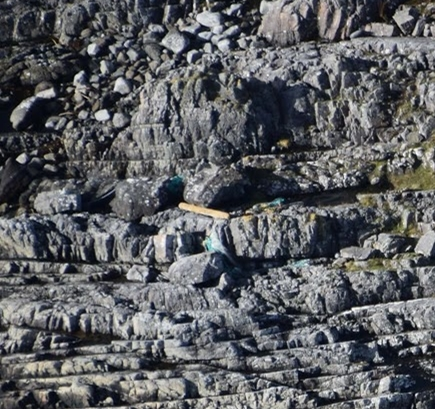net: (202, 229, 239, 268)
straight_bar: (177, 196, 233, 224)
white_in_green: (158, 160, 200, 202), (256, 180, 298, 220)
